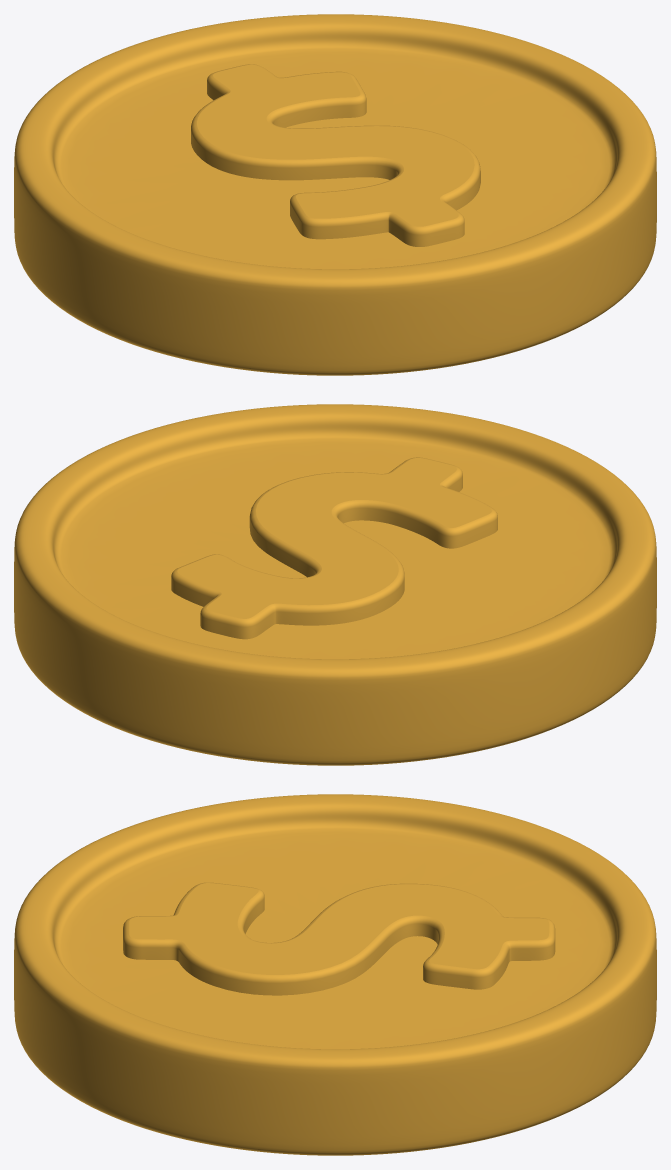
File: $coin.fbx
3 renders of one model, top to bottom at view 1: azimuth 30°, elevation 25°; view 2: azimuth 150°, elevation 25°; view 3: azimuth 270°, elevation 25°, orthographic.
Parts seen in each view (by area): view 1: Coin Dollar 1,5 cm, Curve; view 2: Coin Dollar 1,5 cm, Curve; view 3: Coin Dollar 1,5 cm, Curve.
Part boxes in pixels (x1,y1,x2,y2): Coin Dollar 1,5 cm: [14, 14, 656, 375]; Curve: [191, 64, 480, 246]; Coin Dollar 1,5 cm: [14, 404, 656, 765]; Curve: [171, 457, 497, 639]; Coin Dollar 1,5 cm: [14, 794, 656, 1155]; Curve: [123, 882, 555, 995].
Size of the model in its own units: 1.49 by 0.2497 by 1.49.
